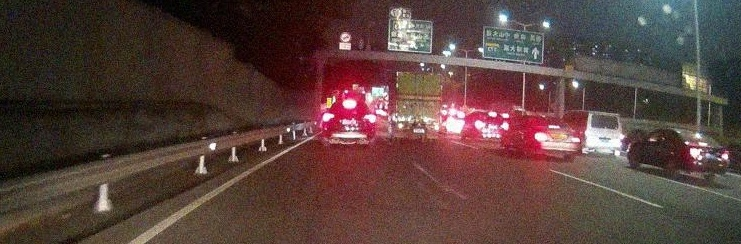L_light: (689, 148, 701, 159), (323, 113, 335, 122), (535, 133, 548, 141), (398, 124, 402, 128)
R_light: (363, 114, 374, 123), (721, 150, 729, 160), (571, 133, 580, 141), (435, 125, 439, 129)
T_light: (549, 124, 560, 128), (344, 102, 354, 105), (691, 133, 700, 135), (416, 74, 424, 76)
night-brake: (322, 99, 375, 148), (532, 117, 581, 162)
night-no: (395, 72, 442, 146), (677, 130, 730, 182)
